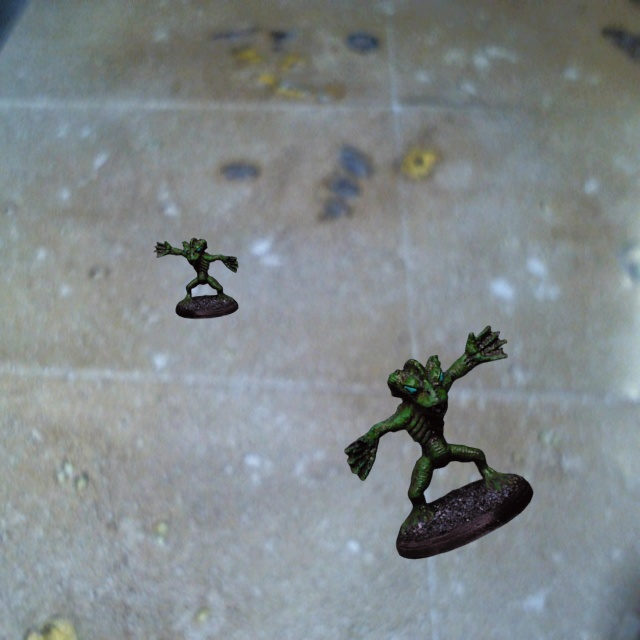pieza_juego: (344, 325, 533, 558), (153, 238, 238, 318)
